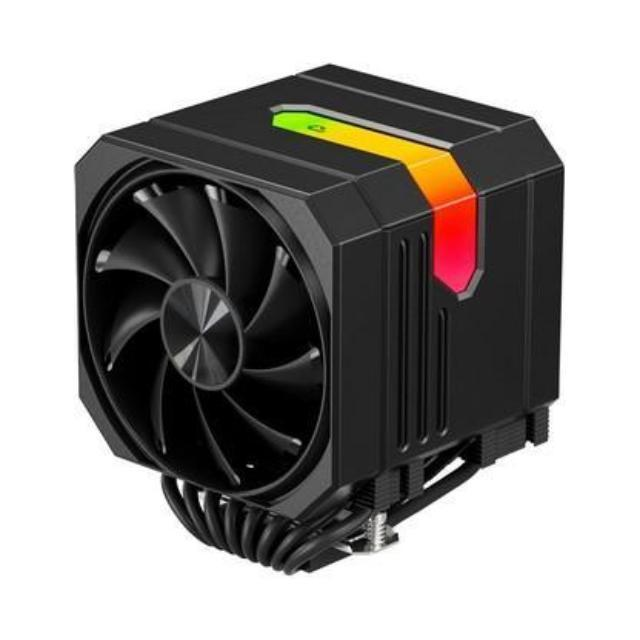CPU_Fan: (79, 61, 562, 574)
